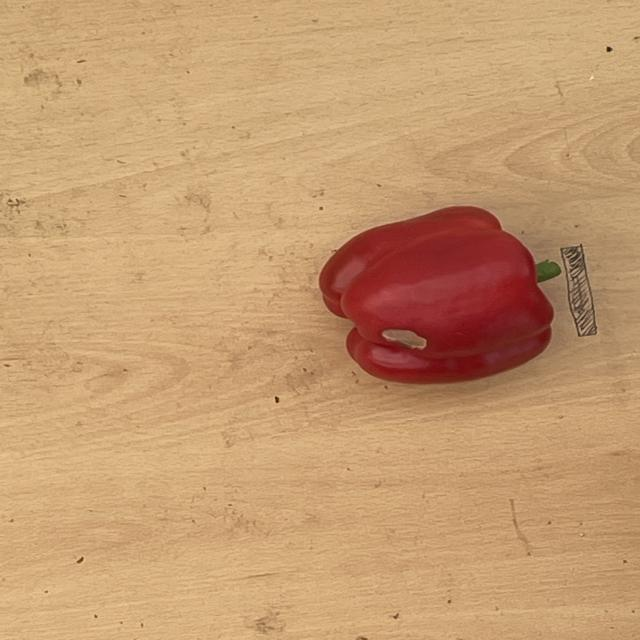Wet Waste: (306, 199, 568, 399)
